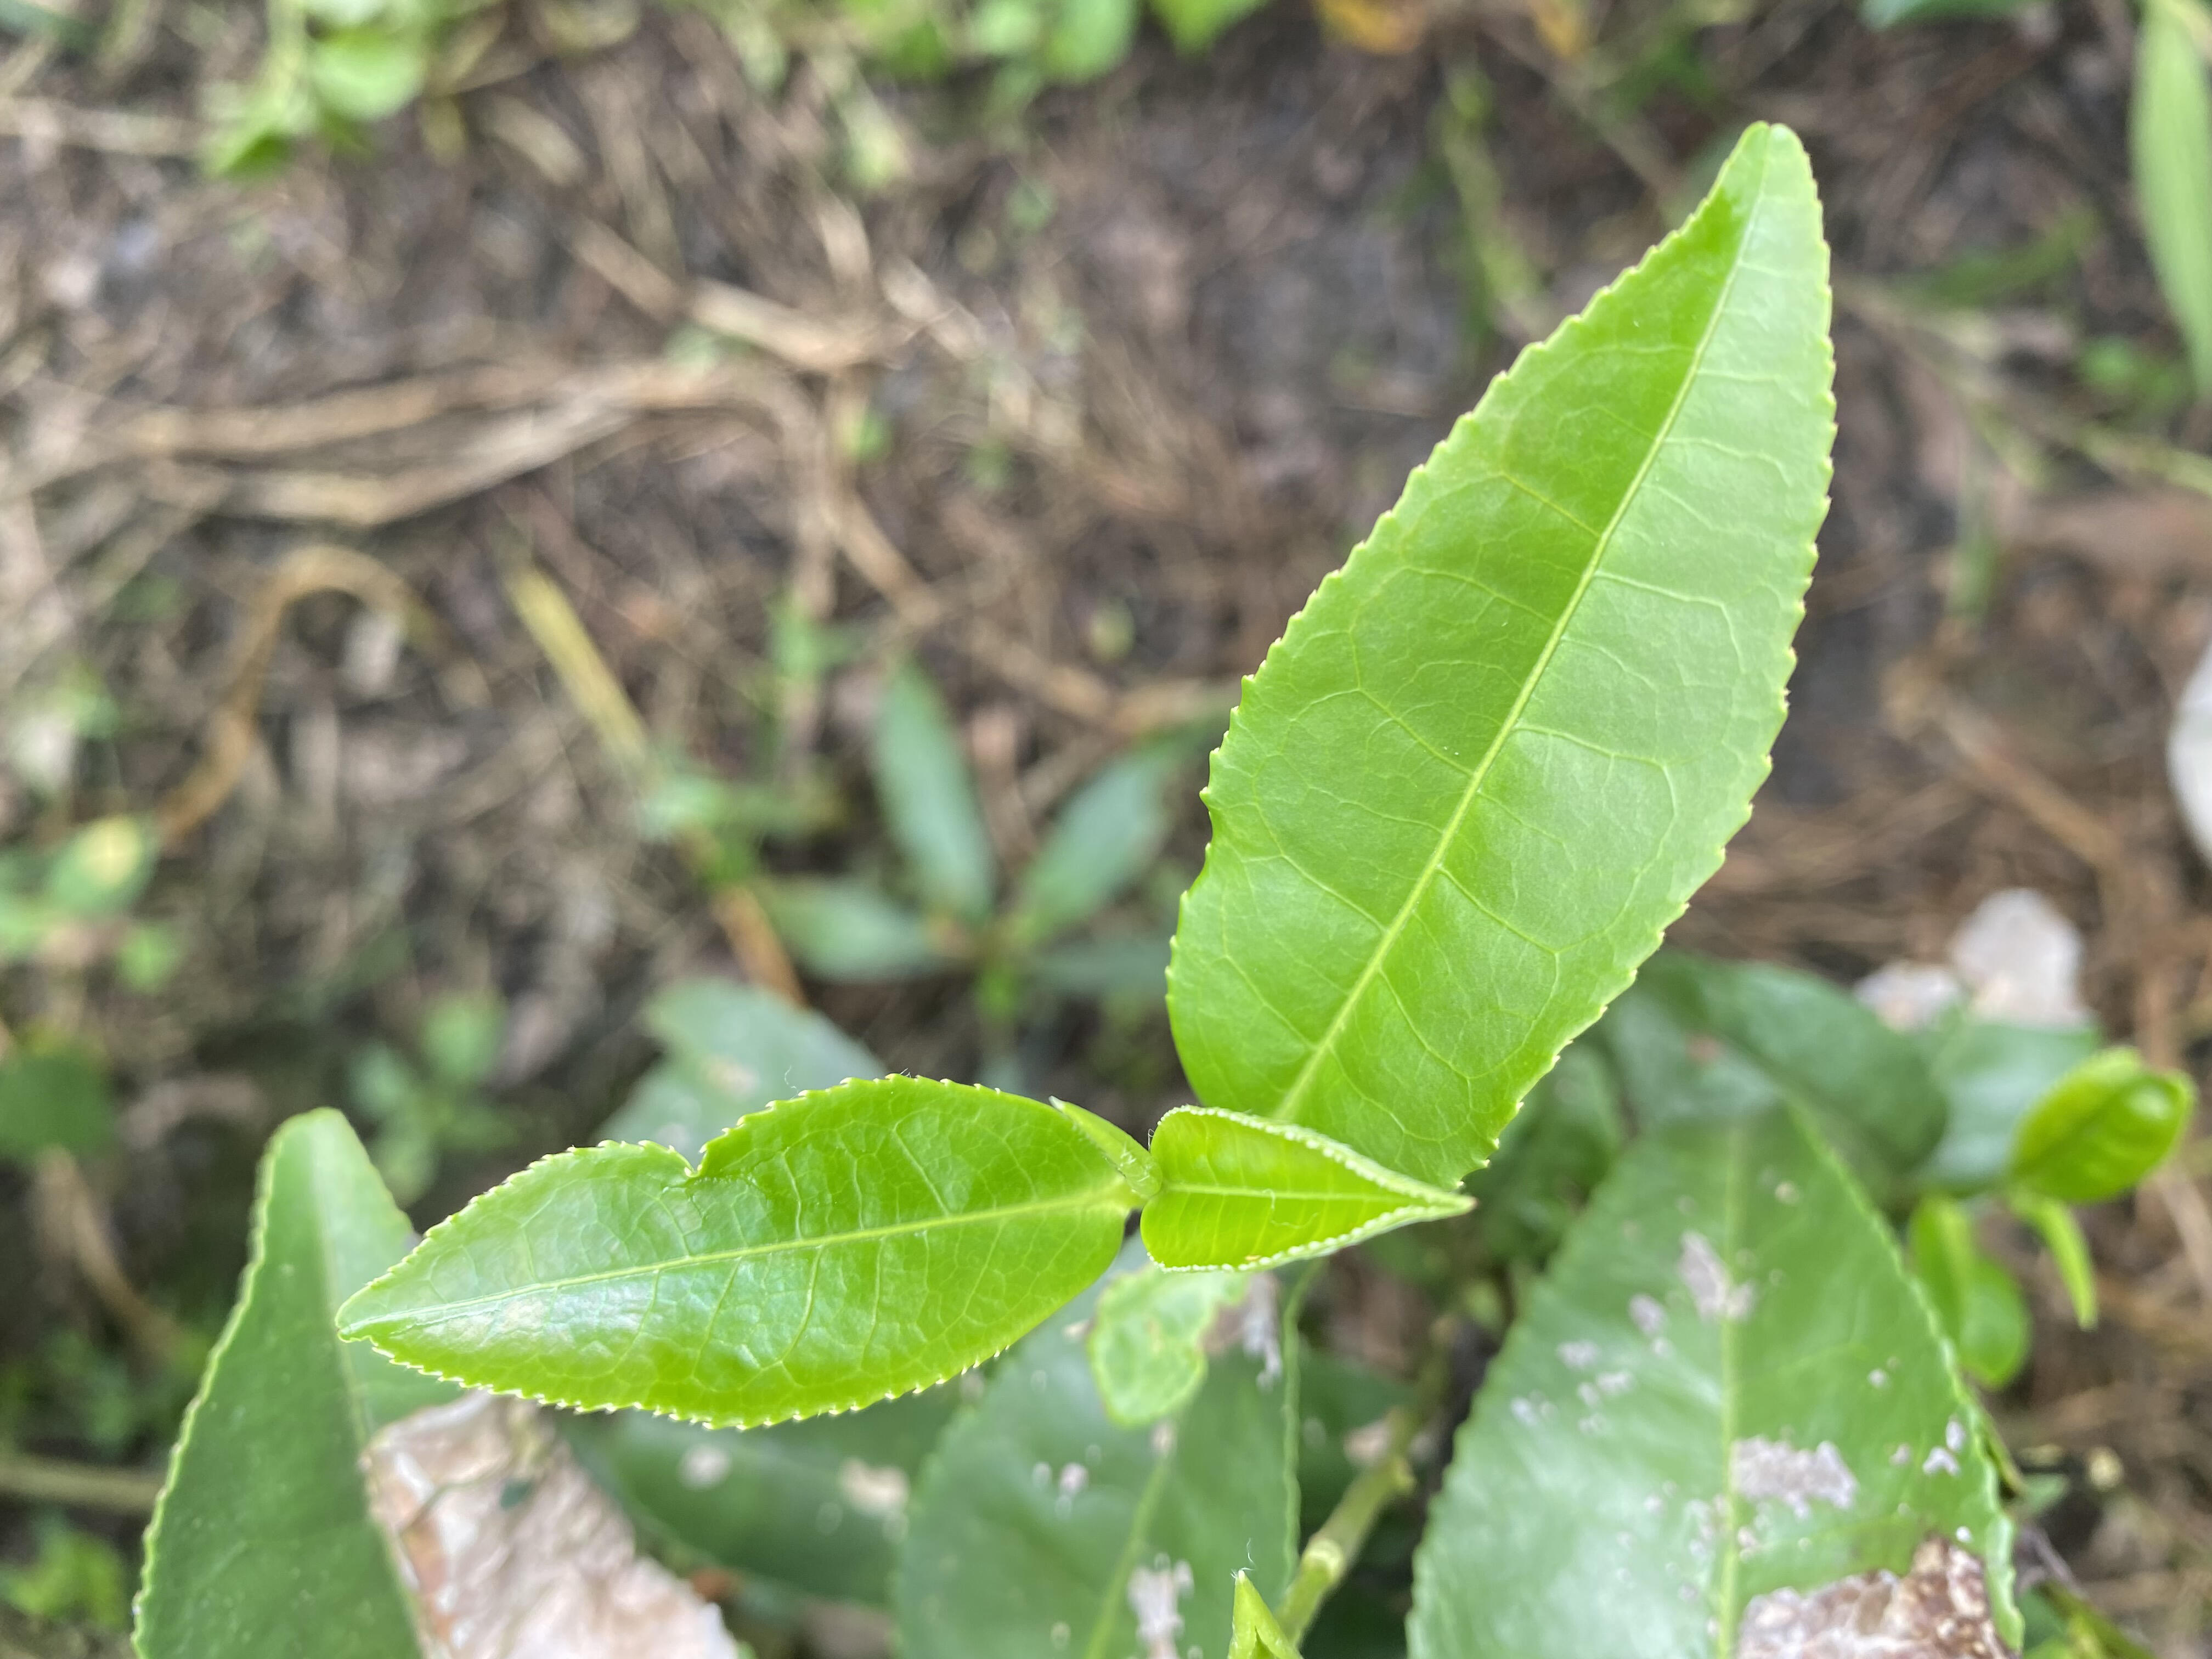healthy: (1162, 120, 1841, 1195), (336, 1072, 1125, 1427), (1139, 1103, 1479, 1276)
tanju_high: (1406, 1101, 2033, 1654), (127, 1101, 745, 1657), (890, 1236, 1313, 1657)
